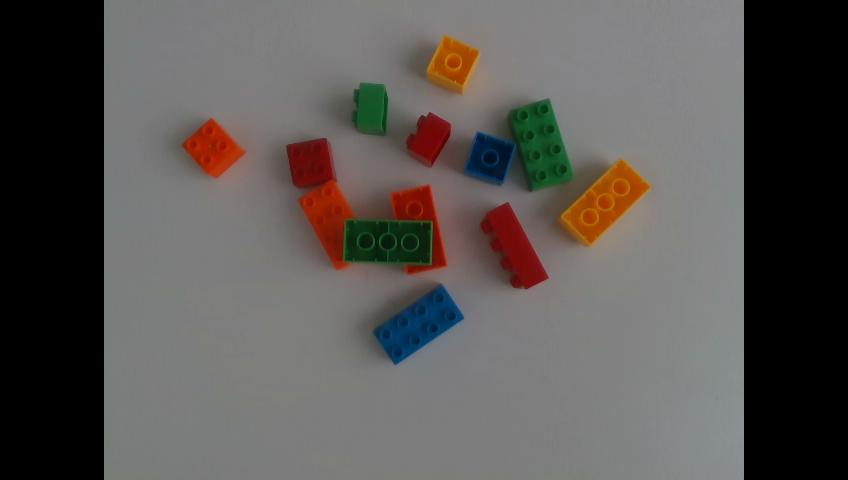2x2_blue: (467, 131, 516, 185)
2x2_green: (356, 81, 387, 134)
2x2_orange: (184, 117, 245, 177)
2x2_red: (407, 111, 451, 165), (287, 137, 335, 186)
2x2_yellow: (428, 35, 479, 92)
4x2_blue: (372, 284, 464, 363)
4x2_green: (511, 98, 574, 189), (344, 219, 431, 266)
4x2_orange: (389, 184, 445, 276), (301, 180, 355, 269)
4x2_red: (481, 200, 548, 288)
4x2_yellow: (559, 156, 651, 245)
